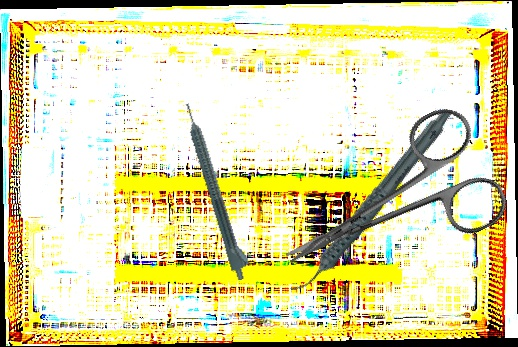Handpiece: (258, 105, 484, 298), (181, 99, 255, 282)
Iris Scissors: (257, 99, 514, 313)
